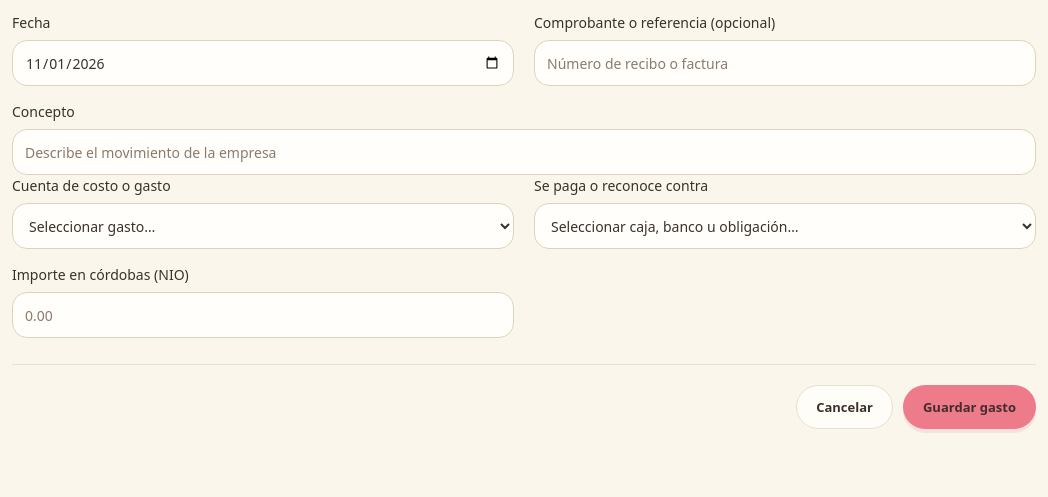
Test case: Gastos diarios › conserva el formulario y explica un rechazo del backend
In the field labelled "Concepto": coordinates (524, 152) [12,129,1036,175], type "Alquiler"
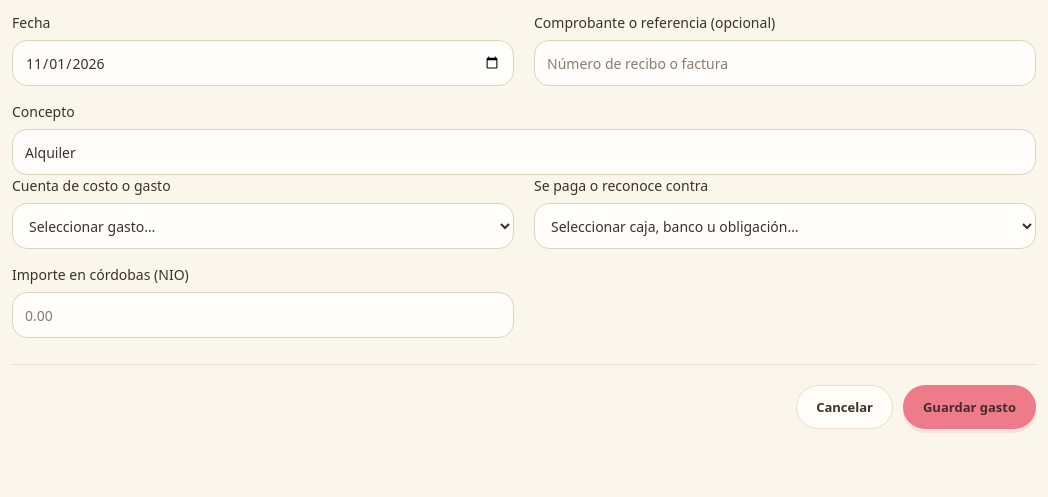
Select "5101 · Alquiler" in the dropdown labelled "Cuenta de costo o gasto": coordinates (263, 226) [12,203,514,249]
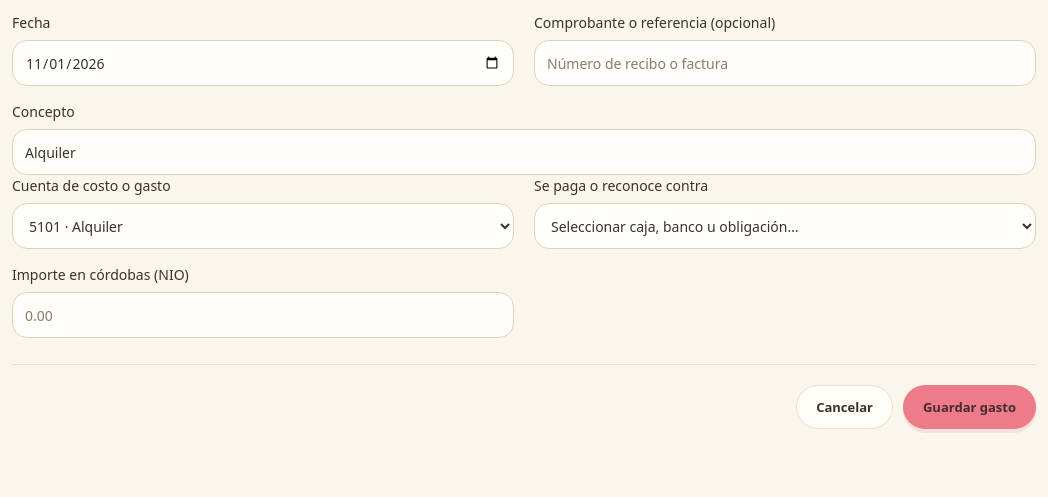
Select "1101 · Caja" in the dropdown labelled "Se paga o reconoce contra": coordinates (785, 226) [534,203,1036,249]
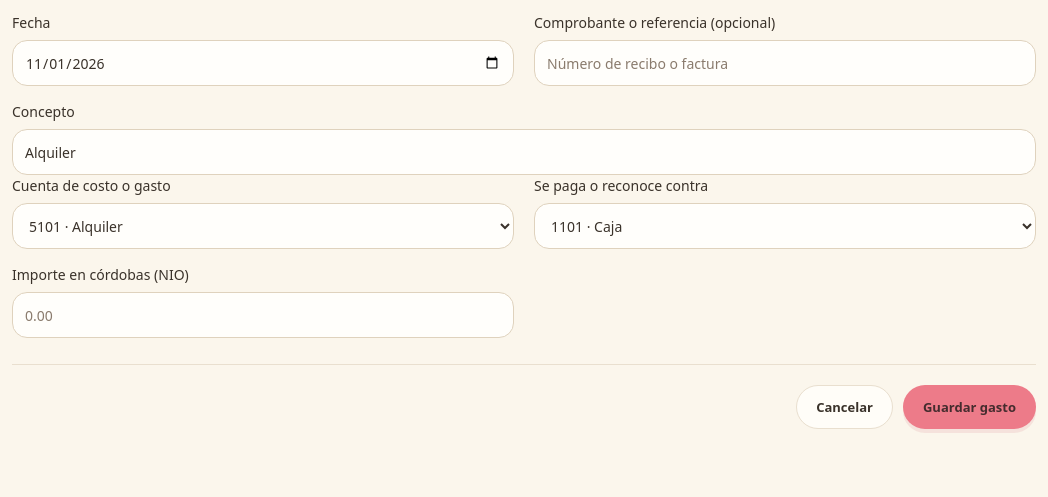
In the field labelled "Importe en córdobas (NIO)": coordinates (263, 315) [12,292,514,338], type "100"
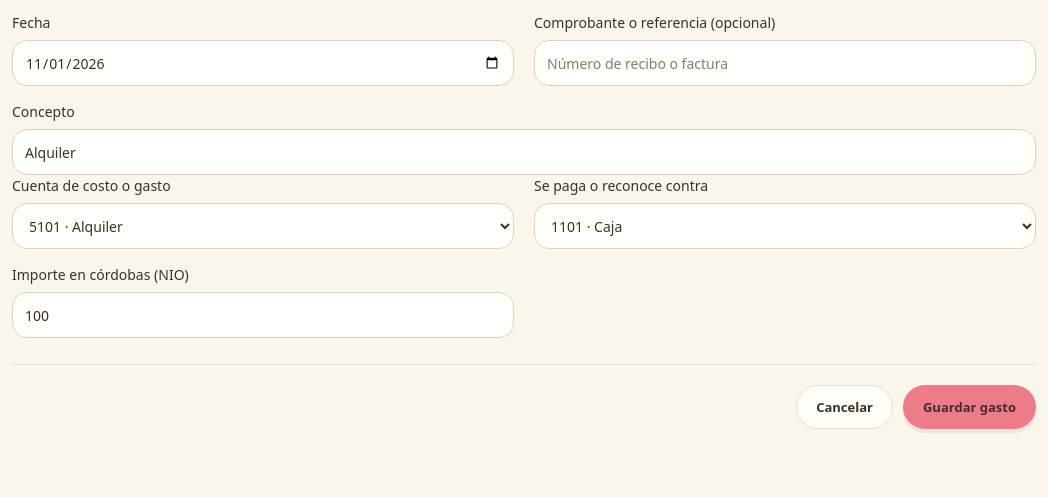
Click the button "Guardar gasto": coordinates (970, 407) [903,385,1036,429]
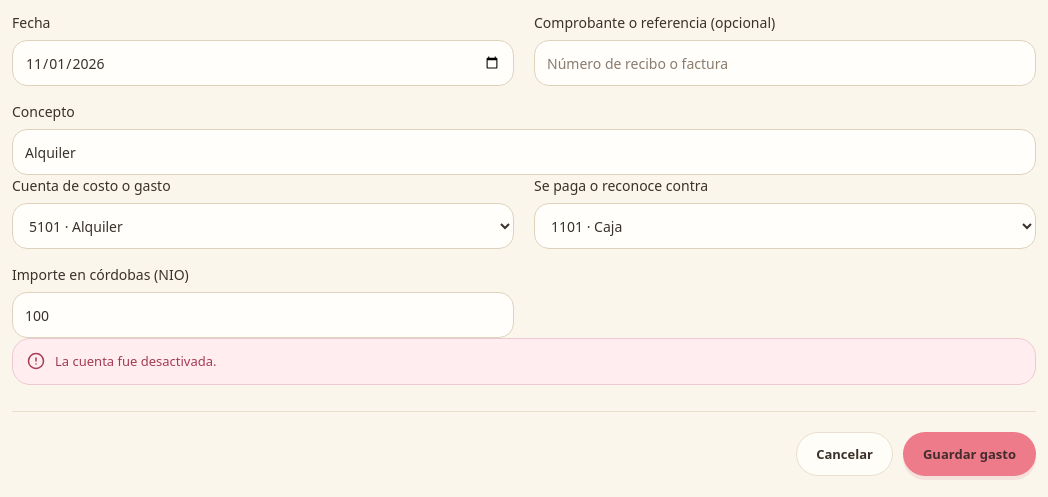
Expected: the button "Guardar gasto" is enabled, [903,432,1036,476]
Now the message reads "La cuenta fue desactivada.", box [55,352,216,370]
